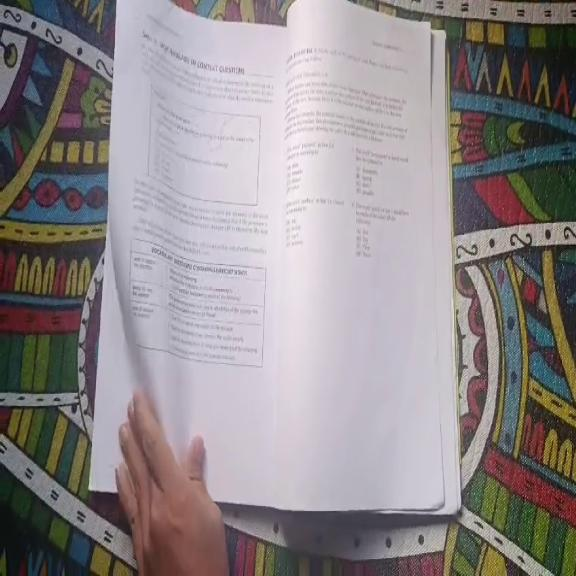Kertas: (111, 2, 285, 502), (278, 0, 444, 510)
